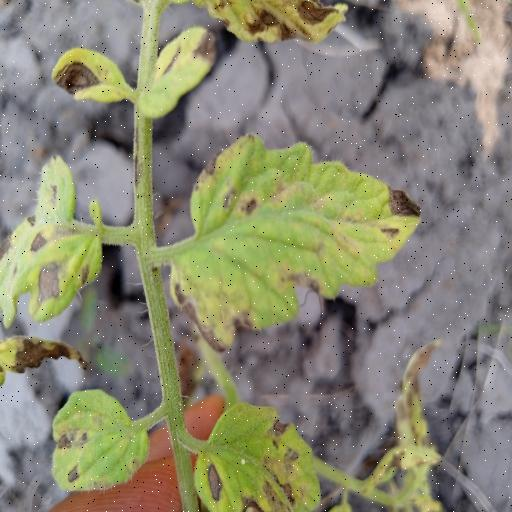Tomato_Brown_Spots: (170, 129, 423, 355), (0, 154, 110, 333), (194, 399, 326, 512), (50, 386, 151, 493)
